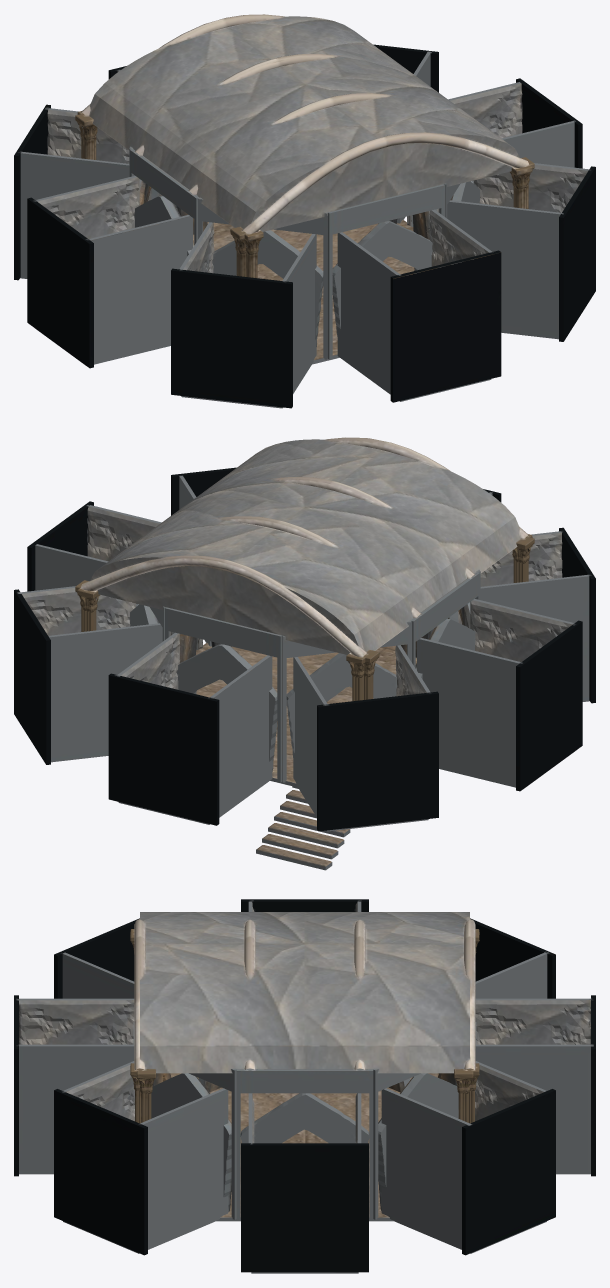
File: room.glb
The picture shows the model from 3 angles, top to bottom: view 1: azimuth 30°, elevation 25°; view 2: azimuth 150°, elevation 25°; view 3: azimuth 270°, elevation 25°; orthographic projection. The views are drawn at different scales.
Parts seen in each view (by area): view 1: DIAMOND-5; view 2: DIAMOND-5; view 3: DIAMOND-5.
Part boxes in pixels (<box>): DIAMOND-5: <box>14,14,595,408</box>; DIAMOND-5: <box>14,437,595,870</box>; DIAMOND-5: <box>14,899,595,1273</box>.
Size of the model in its own units: 14.12 by 7.37 by 14.12.
1 material, 1 textured.
